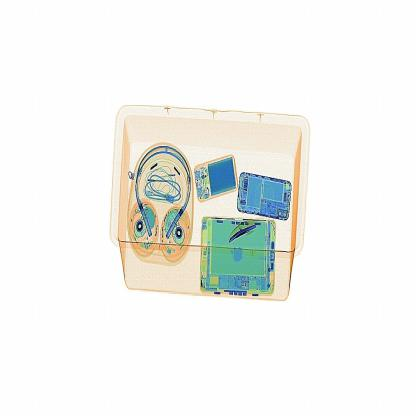pliers: (225, 211, 273, 249)
